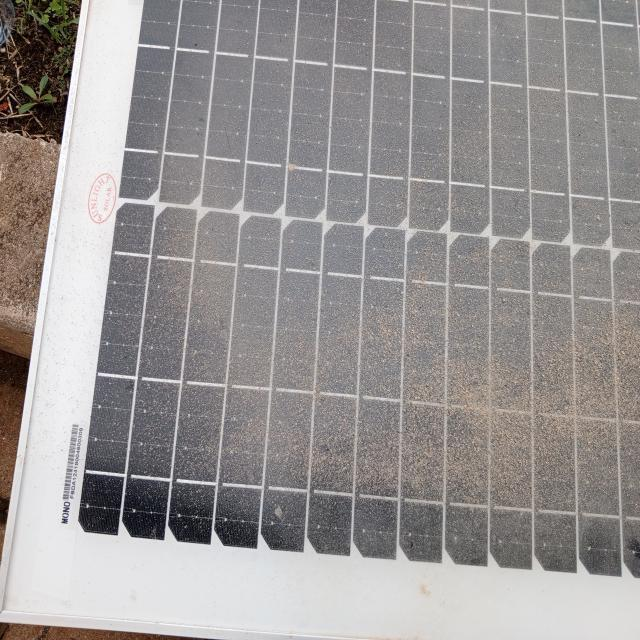Anomaly Solar Panel: (74, 5, 640, 603)
Surface Contaminant: (146, 12, 637, 577)
